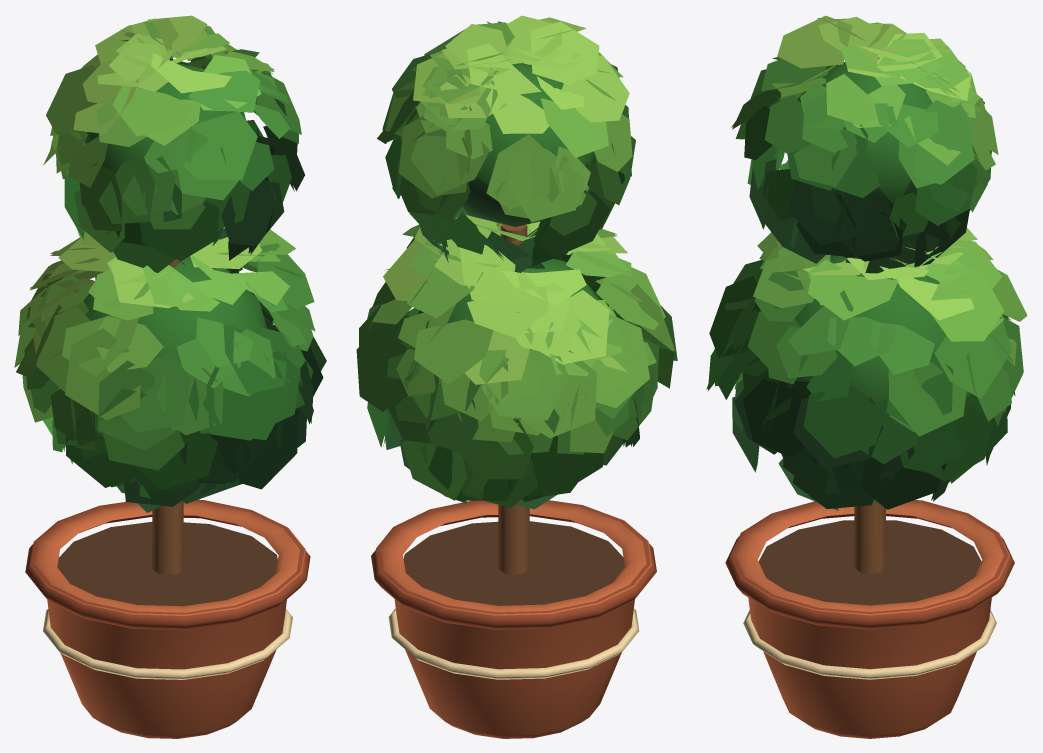
Rendered from Topiary.glb.
3 renders of one model, left to right at view 1: azimuth 30°, elevation 25°; view 2: azimuth 150°, elevation 25°; view 3: azimuth 270°, elevation 25°, orthographic.
Visible parts, largest first — view 1: Rustle, Body; view 2: Rustle, Body; view 3: Rustle, Body.
Part boxes in pixels (box(x1,y1,x2,y2)): Rustle: box(14, 15, 326, 512); Body: box(25, 63, 310, 738); Rustle: box(356, 15, 677, 509); Body: box(371, 63, 656, 738); Rustle: box(706, 15, 1027, 510); Body: box(725, 57, 1014, 738).
Bounding box in the file's own units: 1.92 × 4.49 × 1.94.
Materials: 2 (2 with a texture image).
